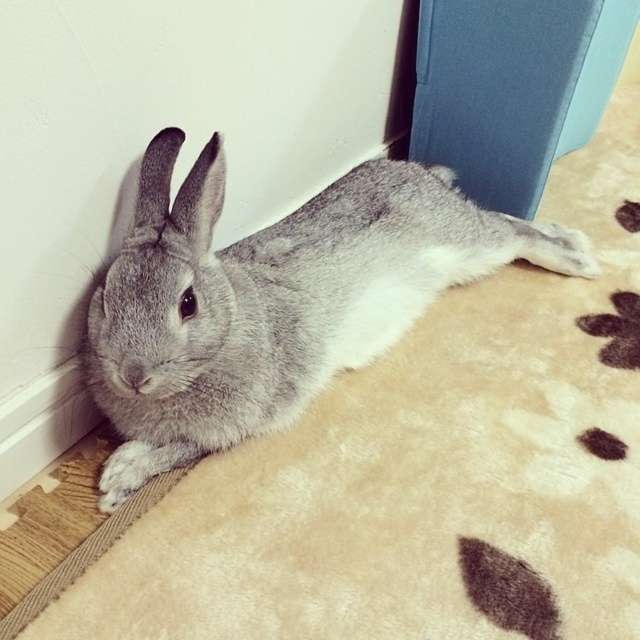Rabbit: (48, 126, 596, 515)
